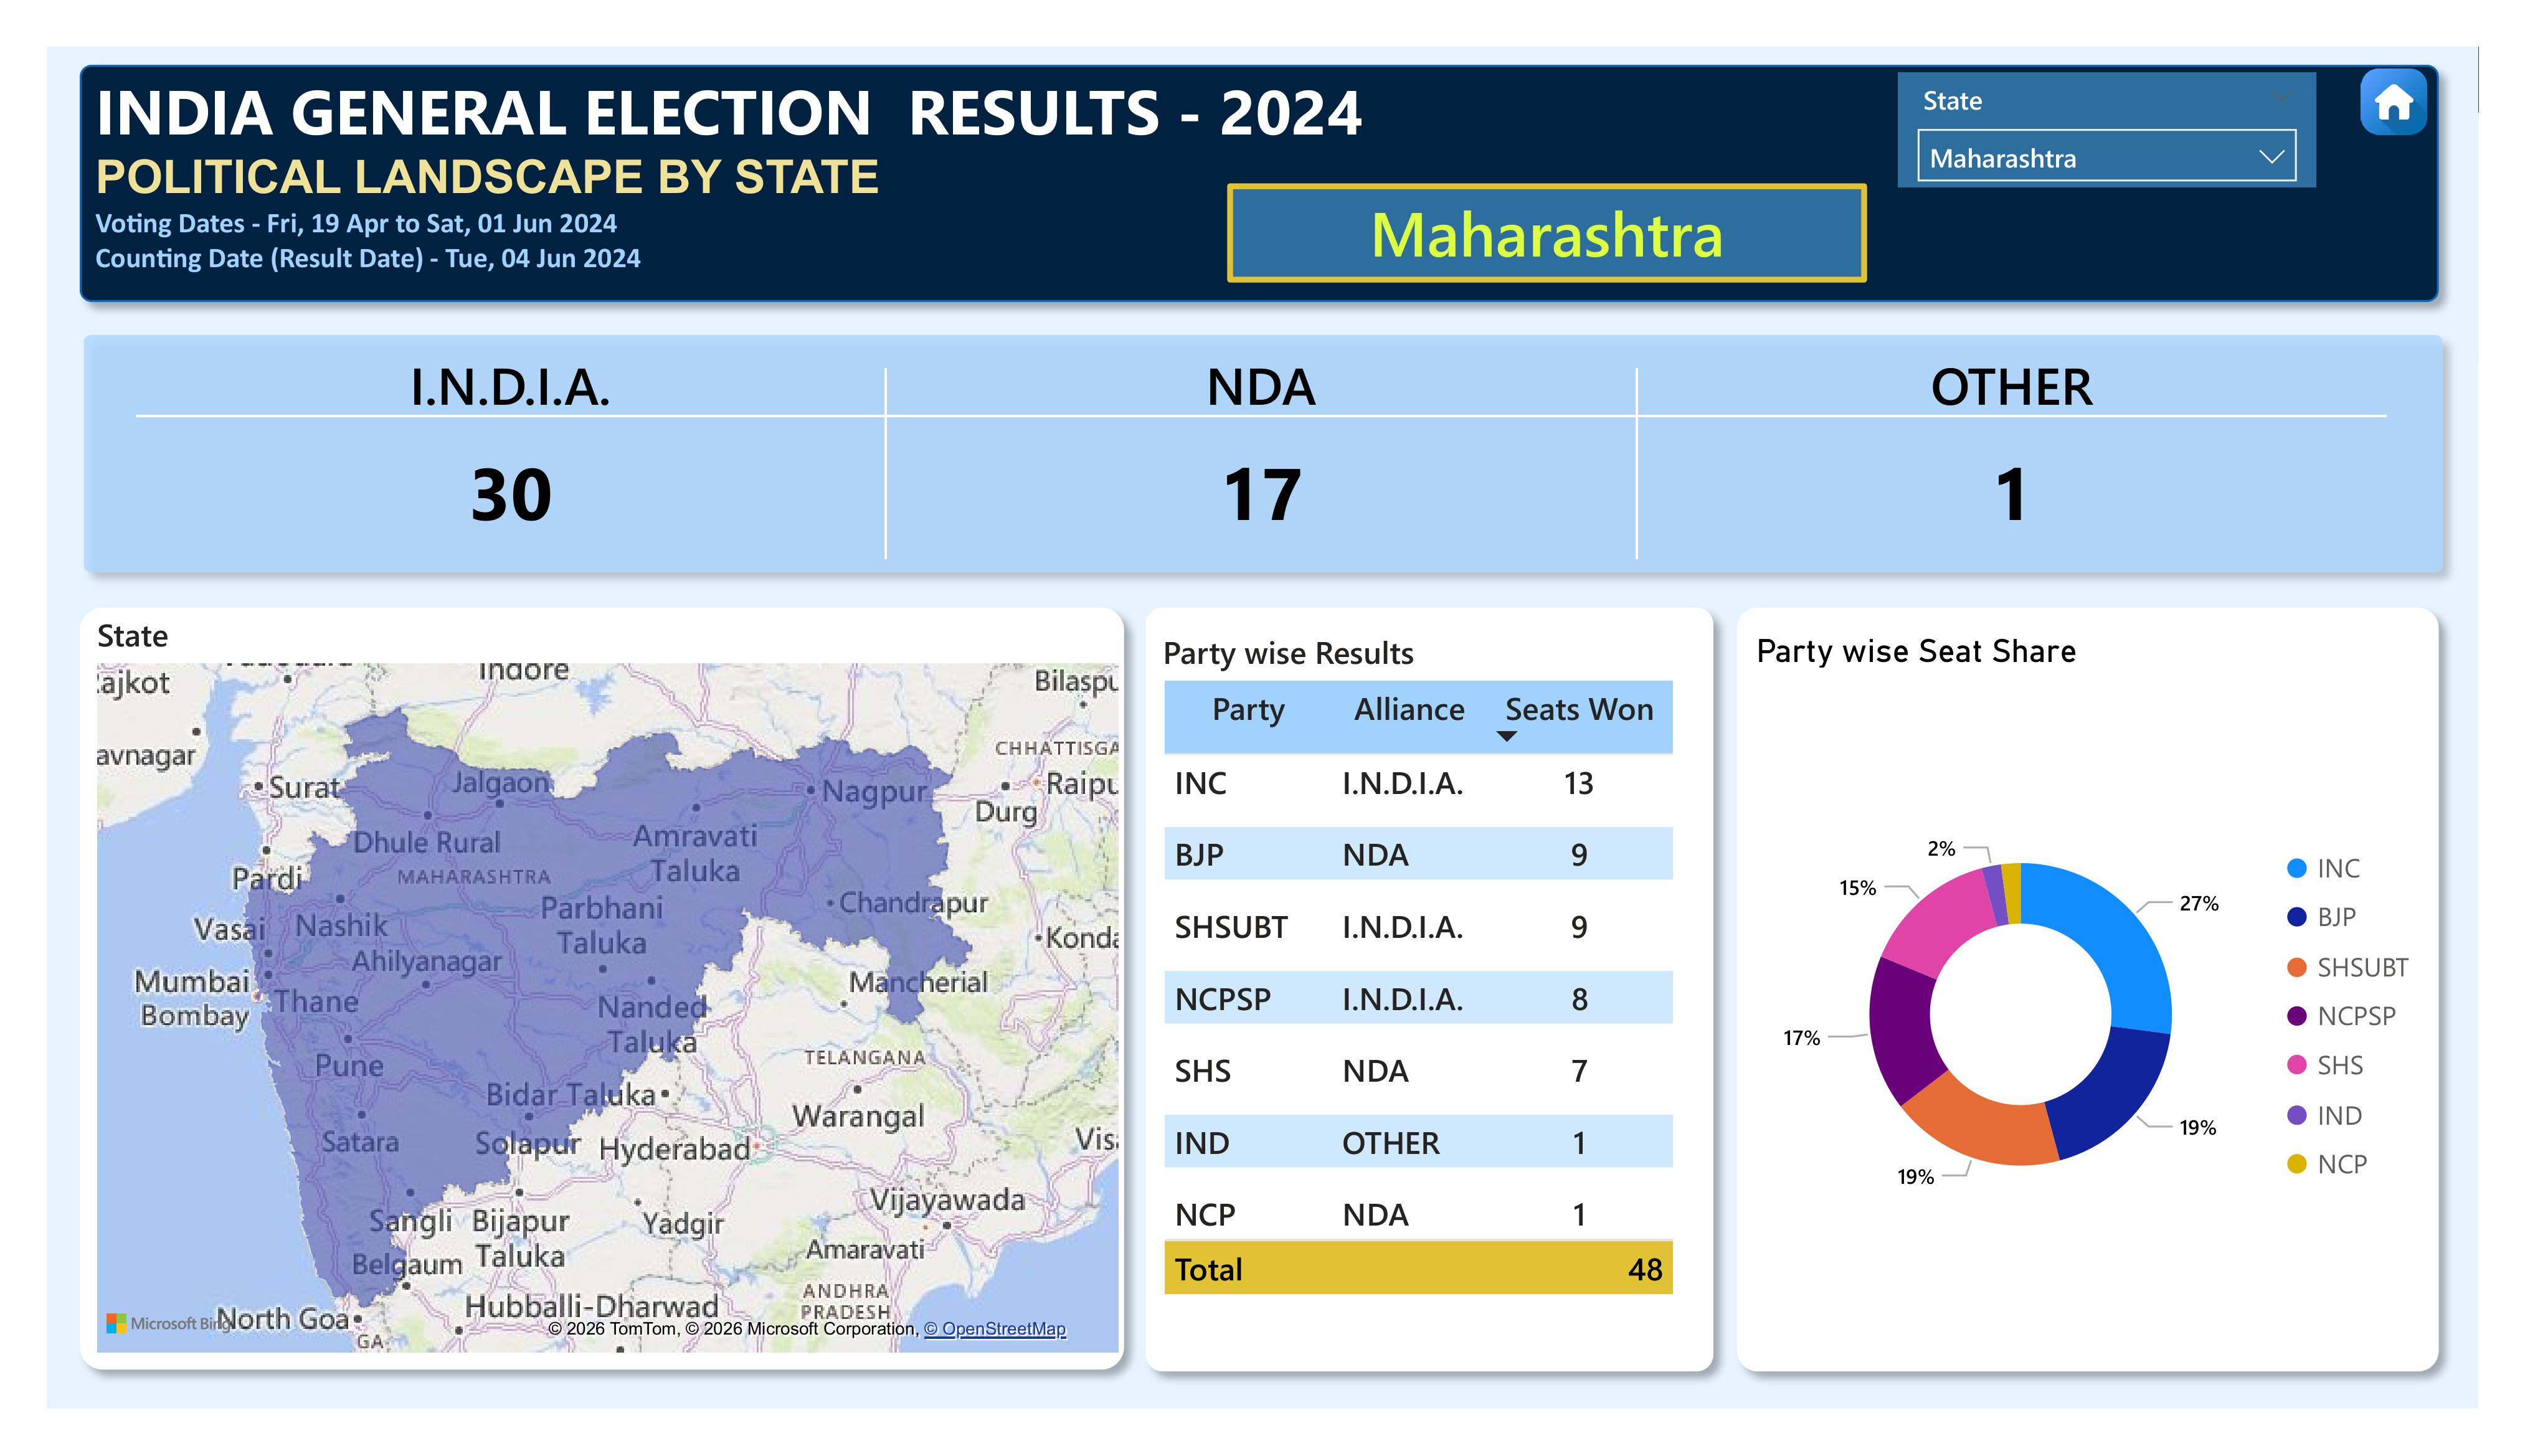

The page's visual inventory and layout, read from the dashboard file:
{"tool":"powerbi","page":{"name":"State Analysis","canvas":[1250,700],"ordinal":3},"visuals":[{"type":"shape","box":[9.3,0,1229.8,139.8],"z":0},{"type":"textbox","box":[25.3,5.9,684.8,121.3],"z":1000},{"type":"image","box":[684,14.3,63.2,40.4],"z":2000},{"type":"shape","box":[9.3,283.2,554.9,405.1],"z":3000},{"type":"shape","box":[9.2,141.7,1229.2,140],"z":4000},{"type":"shape","box":[572.3,283.2,307.6,405.1],"z":5000},{"type":"filledMap","title":"State","fields":{"Category":["states.State"]},"box":[25.5,299.5,521.2,371.5],"z":6000},{"type":"tableEx","title":"Party Wise Result","fields":{"Values":["partywise_results.Party_Short","constituencywise_results.All Winning_Alliance","constituencywise_results.Party ID"]},"box":[593.2,299.5,265.8,371.5],"z":7000},{"type":"shape","box":[886.9,283.2,351.7,405.1],"z":8000},{"type":"cardVisual","fields":{"Data":["CountNonNull(constituencywise_results.Party ID)"],"Rows":["constituencywise_results.All Winning_Alliance"]},"box":[25.5,158,1194.5,112.1],"z":9000},{"type":"donutChart","title":"Party Wise Seats Share","fields":{"Category":["constituencywise_results.Party Short Name Constituency Level Srt"],"Y":["CountNonNull(constituencywise_results.Party ID)"]},"box":[898.6,301.9,330.3,370.6],"z":10000},{"type":"shape","box":[448.7,57.7,413.5,76.1],"z":11000},{"type":"card","fields":{"Values":["Min(states.State)"]},"box":[462.3,71.3,387,48.9],"z":12000},{"type":"image","box":[1176.2,10.2,51,49.9],"z":13000},{"type":"slicer","fields":{"Values":["states.State"]},"box":[876,37.1,299.9,69.1],"z":14000}]}

Visuals, with their boxes on the page's 1250x700 design canvas (x1, y1, x2, y2). These are canvas units, not pixel positions in the 2525x1456 screenshot, which may show the page scaled, cropped or inside an application window:
shape: Rect(9, 0, 1239, 140)
textbox: Rect(25, 6, 710, 127)
image: Rect(684, 14, 747, 55)
shape: Rect(9, 283, 564, 688)
shape: Rect(9, 142, 1238, 282)
shape: Rect(572, 283, 880, 688)
"State" filledMap: Rect(26, 300, 547, 671)
"Party Wise Result" tableEx: Rect(593, 300, 859, 671)
shape: Rect(887, 283, 1239, 688)
cardVisual - CountNonNull(constituencywise_results.Party ID) x constituencywise_results.All Winning_Alliance: Rect(26, 158, 1220, 270)
"Party Wise Seats Share" donutChart: Rect(899, 302, 1229, 672)
shape: Rect(449, 58, 862, 134)
card - Min(states.State): Rect(462, 71, 849, 120)
image: Rect(1176, 10, 1227, 60)
slicer - states.State: Rect(876, 37, 1176, 106)
